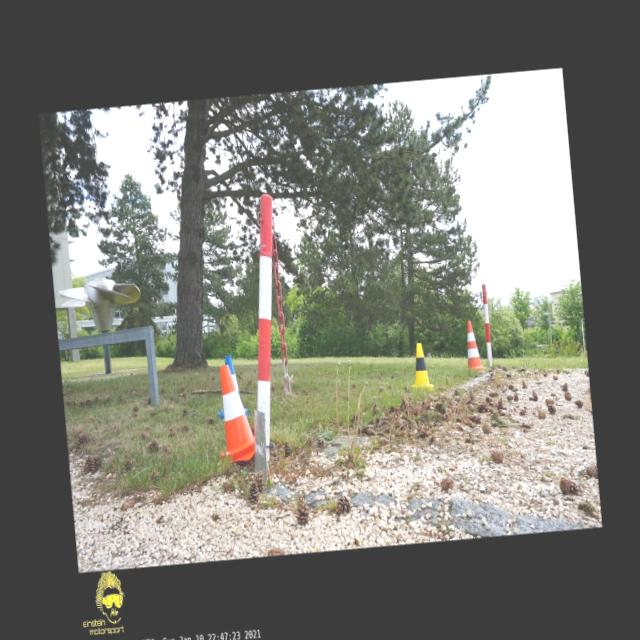blue_cone: (213, 354, 248, 419)
large_orange_cone: (212, 363, 256, 462), (464, 318, 484, 371)
yellow_cone: (408, 342, 434, 388)
